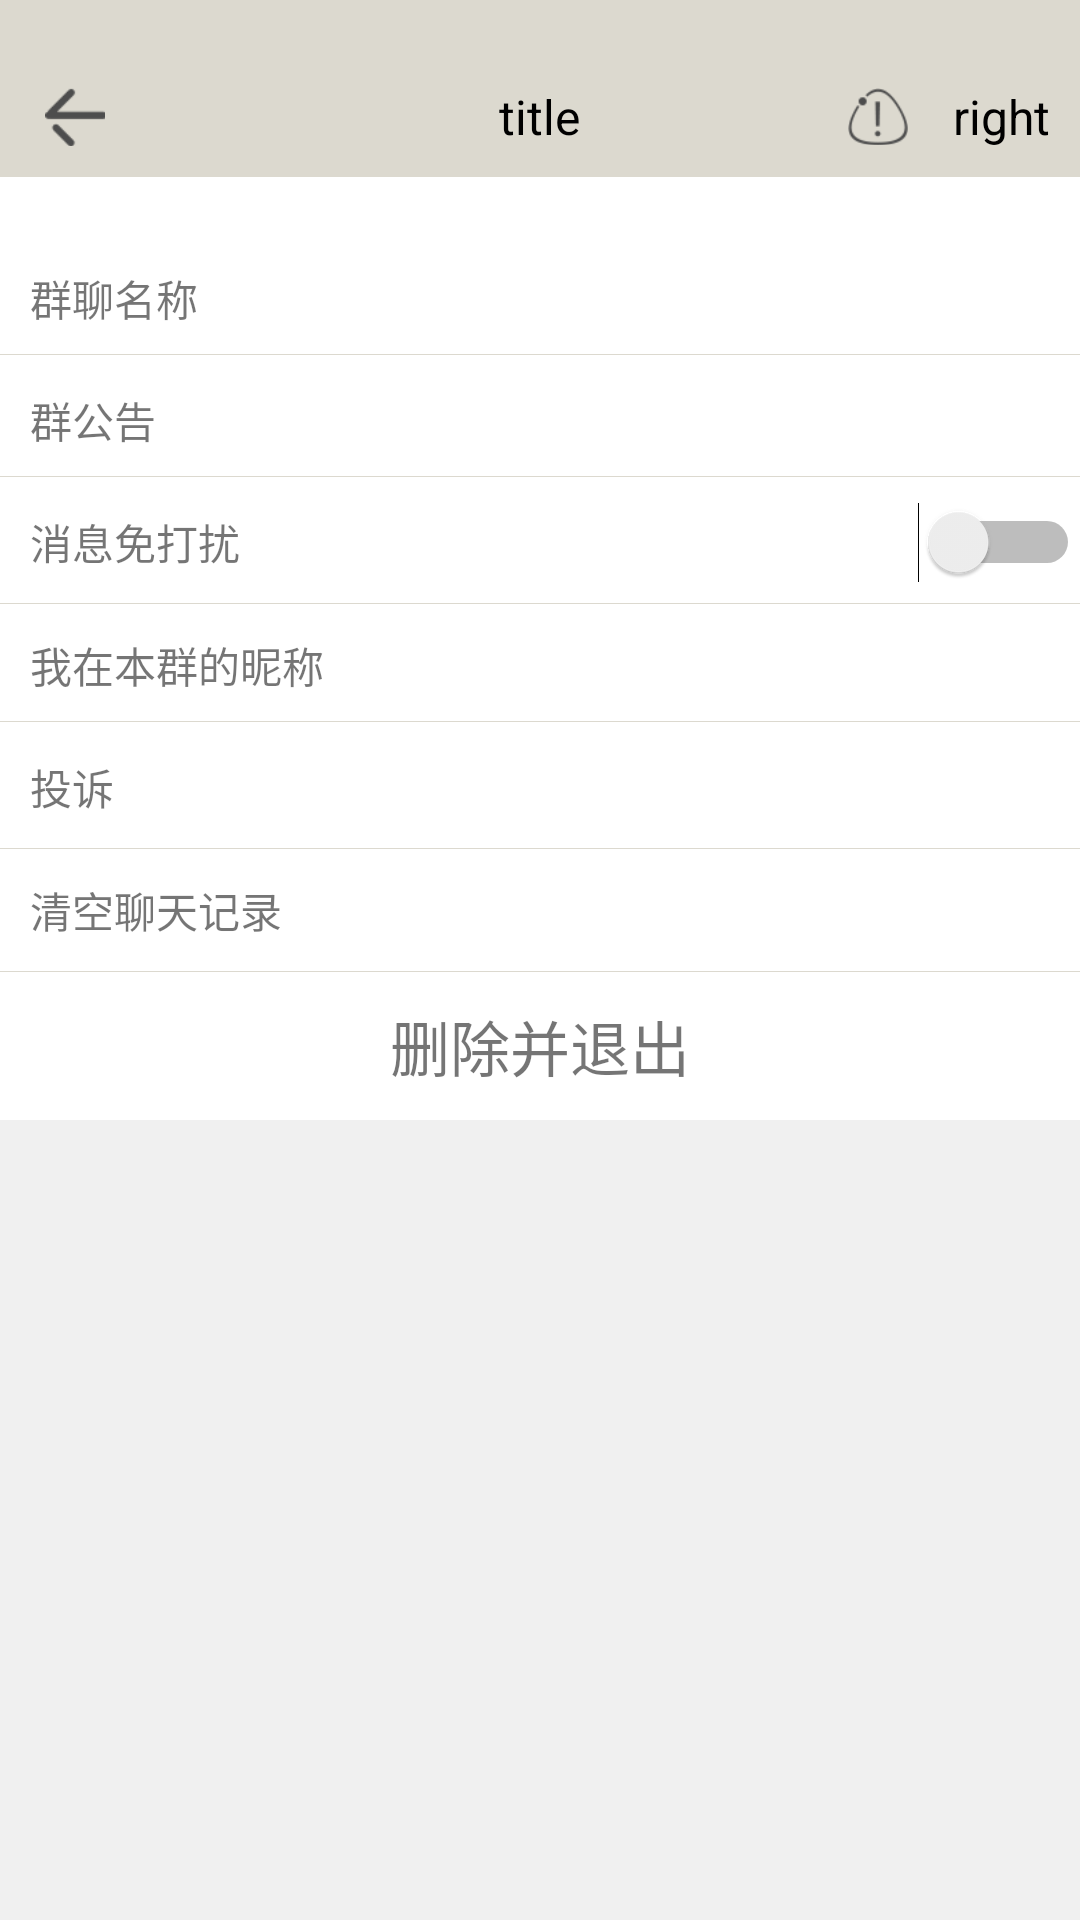

Where icons sit on this 1080 x 1920 app screen, as (x1, y1, x2, y2):
back: (45, 89, 105, 146)
